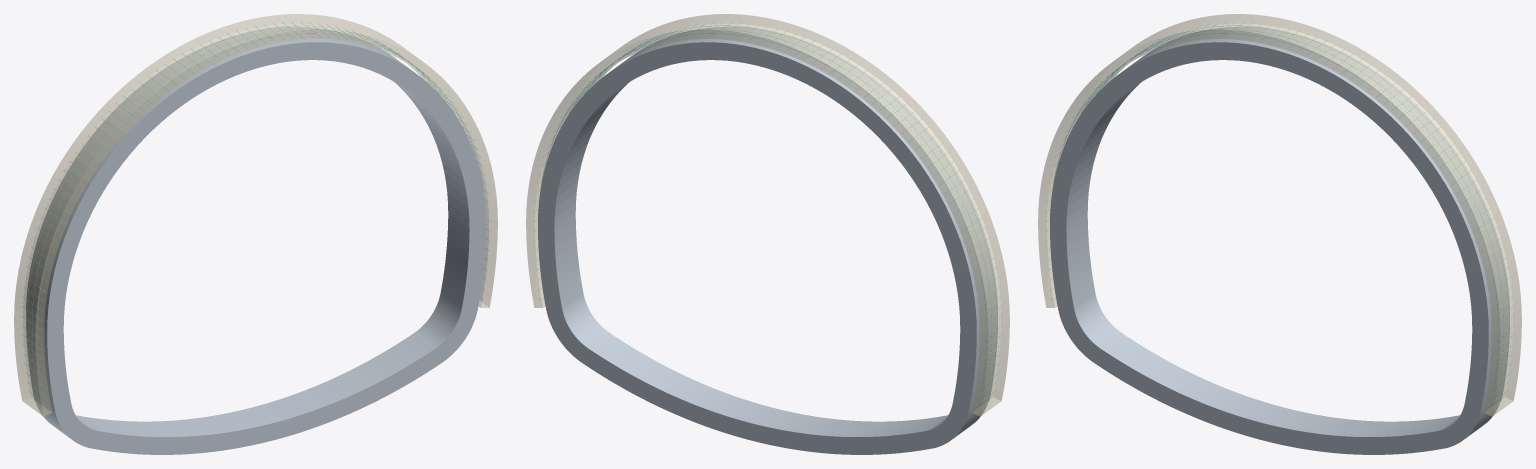
Rendered from ZZ-IVx_support_1m.glb.
3 views of the same model, side by side, from view 1: azimuth 30°, elevation 25°; view 2: azimuth 150°, elevation 25°; view 3: azimuth 330°, elevation 25° (orthographic).
Parts seen in each view (by area): view 1: secondaryLining, primarySupportConcrete, primaryMeshCircumferentialBars, primaryMeshLongitudinalBars; view 2: secondaryLining, primarySupportConcrete, primaryMeshCircumferentialBars, primaryMeshLongitudinalBars; view 3: secondaryLining, primarySupportConcrete, primaryMeshCircumferentialBars, primaryMeshLongitudinalBars.
Boxes of the visible parts, left/top/right/bottom form: secondaryLining: left=26, top=27, right=485, bottom=454; primarySupportConcrete: left=14, top=14, right=497, bottom=416; primaryMeshCircumferentialBars: left=26, top=25, right=482, bottom=408; primaryMeshLongitudinalBars: left=22, top=22, right=489, bottom=405; secondaryLining: left=538, top=27, right=997, bottom=454; primarySupportConcrete: left=526, top=14, right=1009, bottom=416; primaryMeshCircumferentialBars: left=541, top=25, right=997, bottom=408; primaryMeshLongitudinalBars: left=534, top=22, right=1001, bottom=405; secondaryLining: left=1050, top=27, right=1509, bottom=454; primarySupportConcrete: left=1038, top=14, right=1521, bottom=416; primaryMeshCircumferentialBars: left=1053, top=25, right=1509, bottom=408; primaryMeshLongitudinalBars: left=1046, top=22, right=1513, bottom=405.
Size of the model in its own units: 12.54 by 10.52 by 1.
